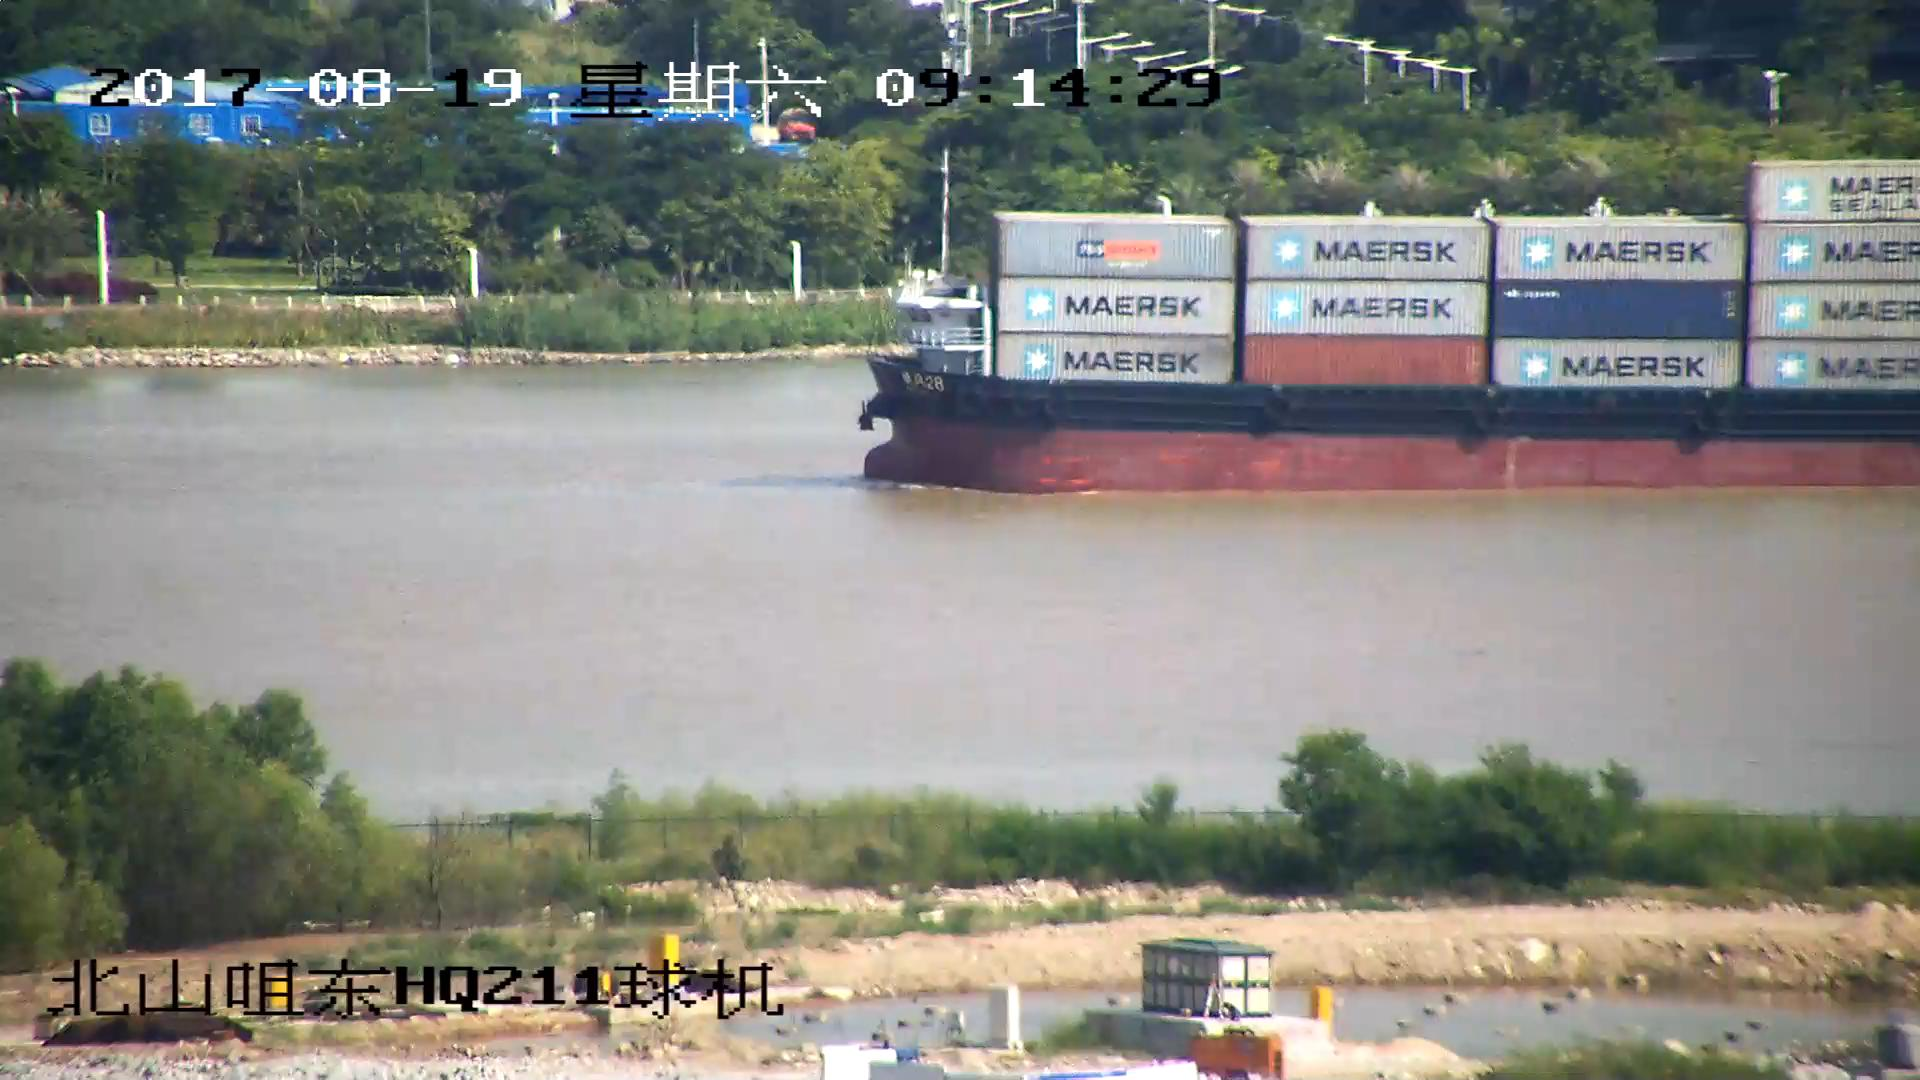container ship: (856, 152, 1920, 496)
